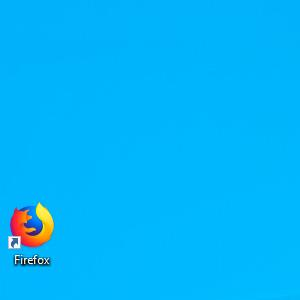firefox: (8, 200, 55, 250)
